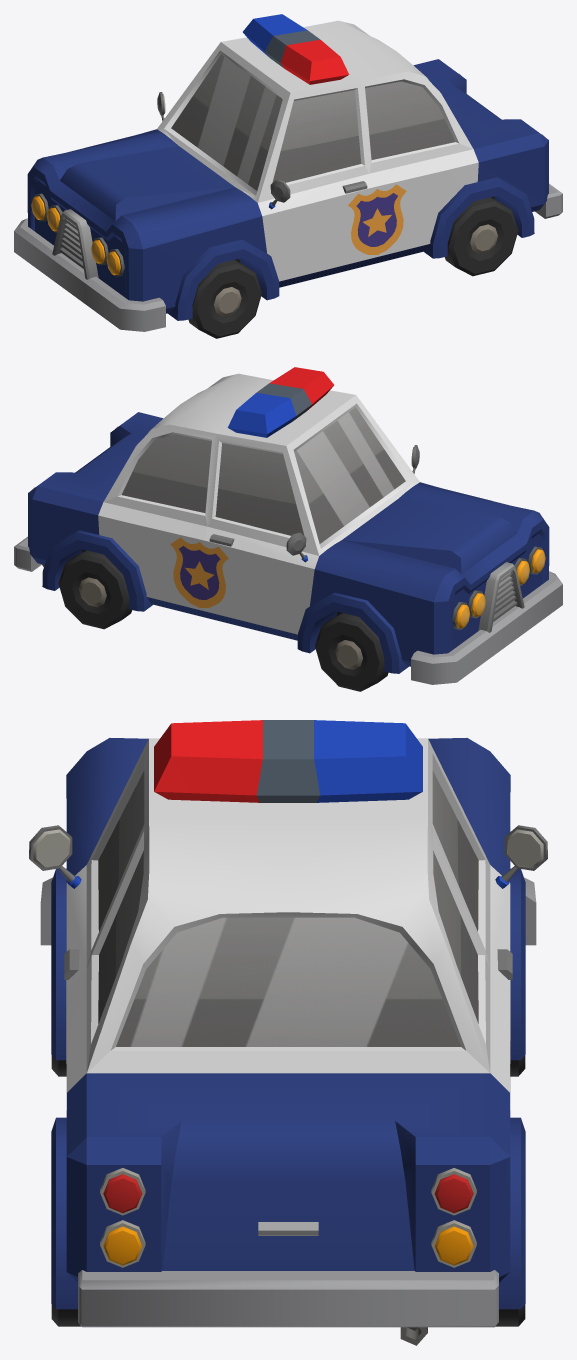
File: Car_Police_4_B_1.gltf
3 renders of one model, top to bottom at view 1: azimuth 30°, elevation 25°; view 2: azimuth 150°, elevation 25°; view 3: azimuth 270°, elevation 25°, orthographic. The views are drawn at different scales.
Visible parts, largest first — view 1: Car_Police_4_B_1, RL, FL; view 2: Car_Police_4_B_1, RR, FR; view 3: Car_Police_4_B_1.
Part boxes in pixels (bbox=[...]): Car_Police_4_B_1: bbox=[14, 14, 562, 331]; RL: bbox=[444, 197, 518, 276]; FL: bbox=[188, 260, 261, 338]; Car_Police_4_B_1: bbox=[14, 367, 562, 684]; RR: bbox=[58, 550, 132, 629]; FR: bbox=[315, 613, 388, 691]; Car_Police_4_B_1: bbox=[29, 720, 547, 1345].
Size of the model in its own units: 3.36 by 1.64 by 1.7.
Materials: 3 (3 with a texture image).
